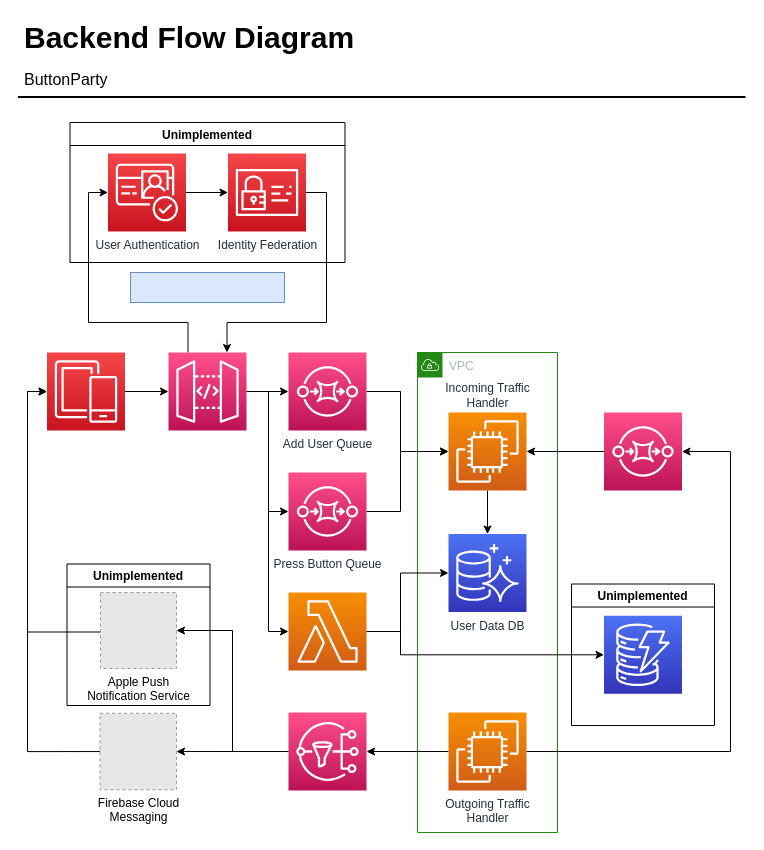
Image size: 764x850. Some labels were removed from this diagram. Grey dashed boxes stand in for pictures. The centre of each missing label's shape, as x and y in pixels:
"API Gateway" goes at (207,391).
"Authentication for API calls" goes at (207,287).
"Fetch Info Lambda" goes at (327,631).
"Group DB" goes at (642,654).
"Mobile Application" goes at (85,391).
"Platform Application SNS" goes at (327,751).
"Timestamp Queue" goes at (642,451).
